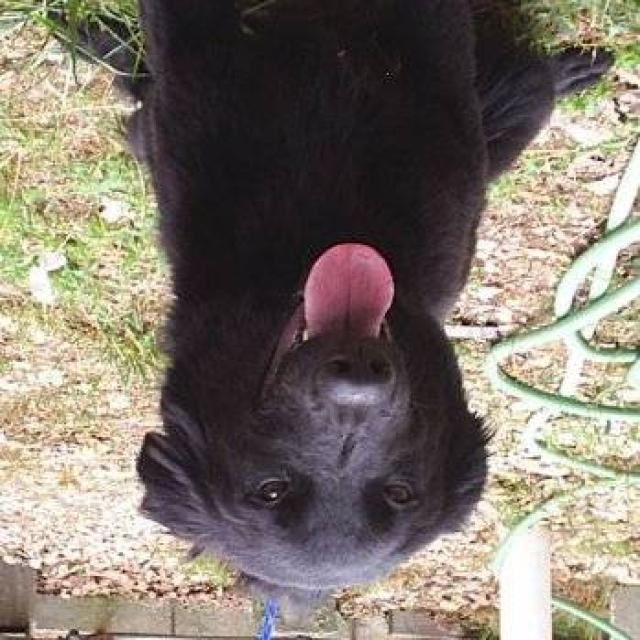dog: (93, 0, 640, 585)
